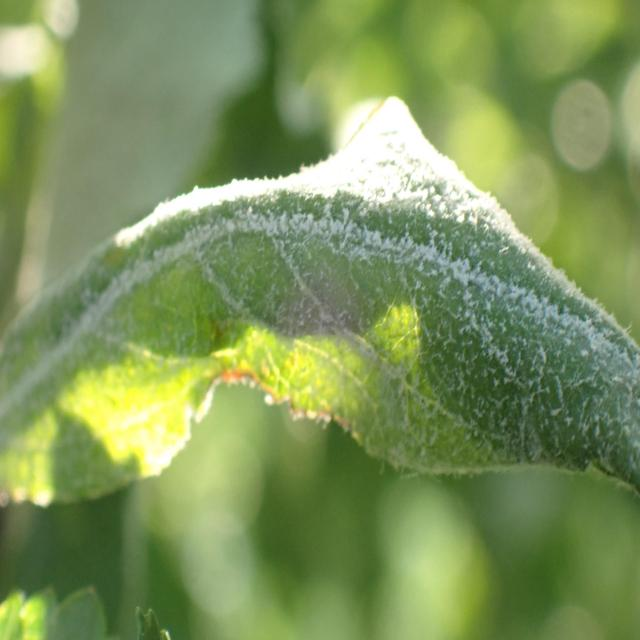Powdery_mildew: (0, 88, 640, 533)
